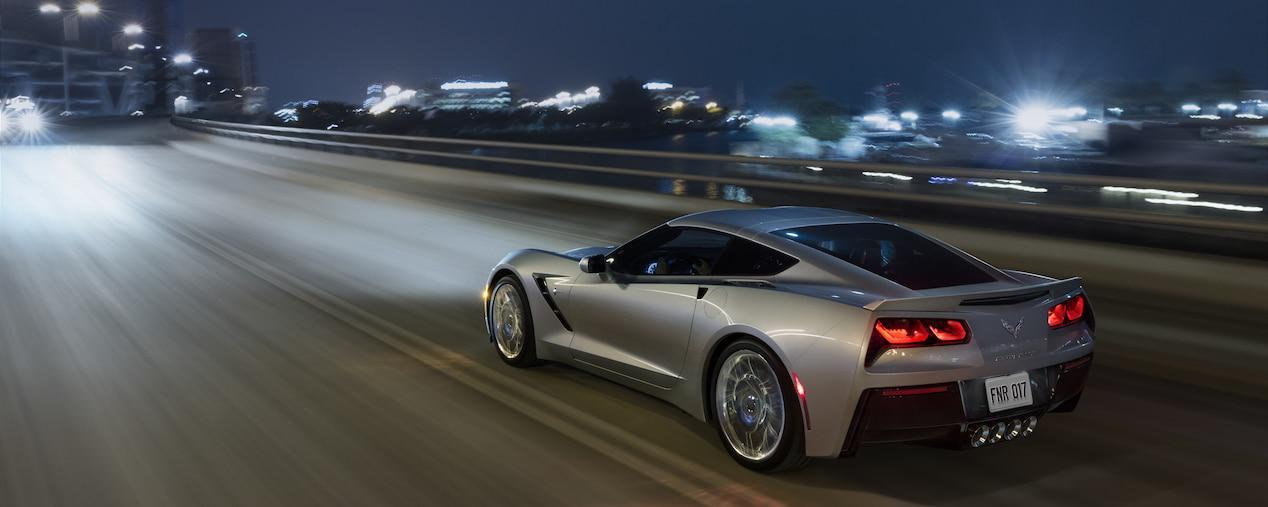car: (462, 193, 1139, 485)
